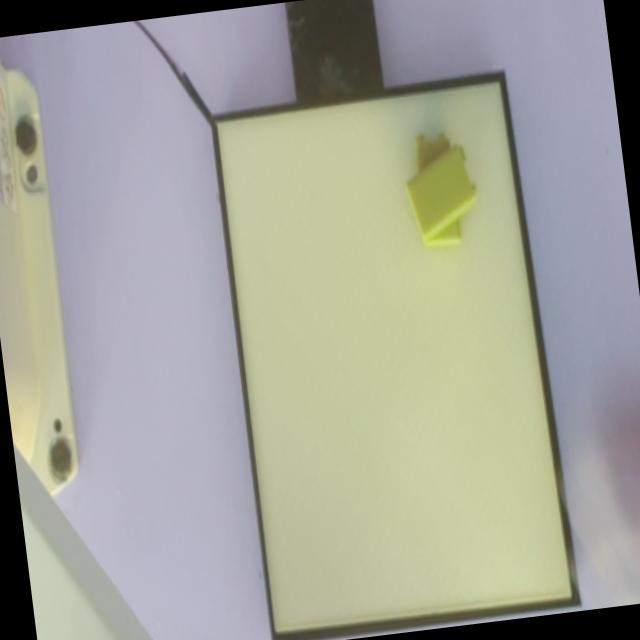bateria: (404, 143, 476, 238)
mesa: (210, 70, 581, 640)
